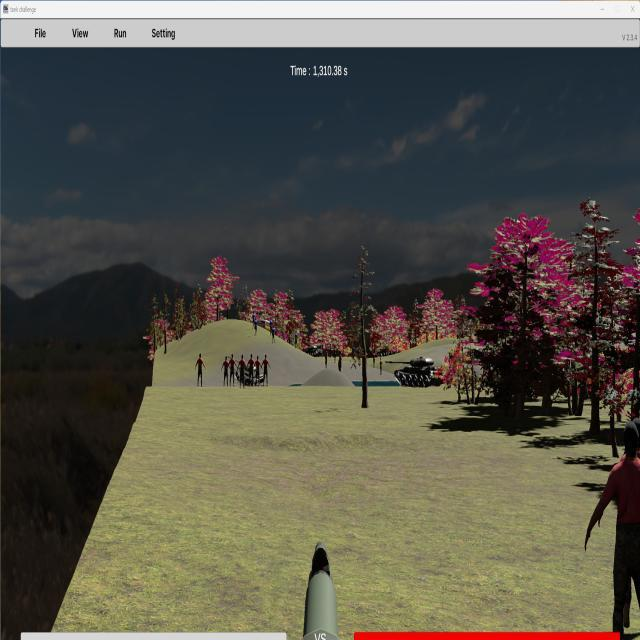Human: (584, 417, 640, 635)
Tank: (384, 354, 446, 388)
